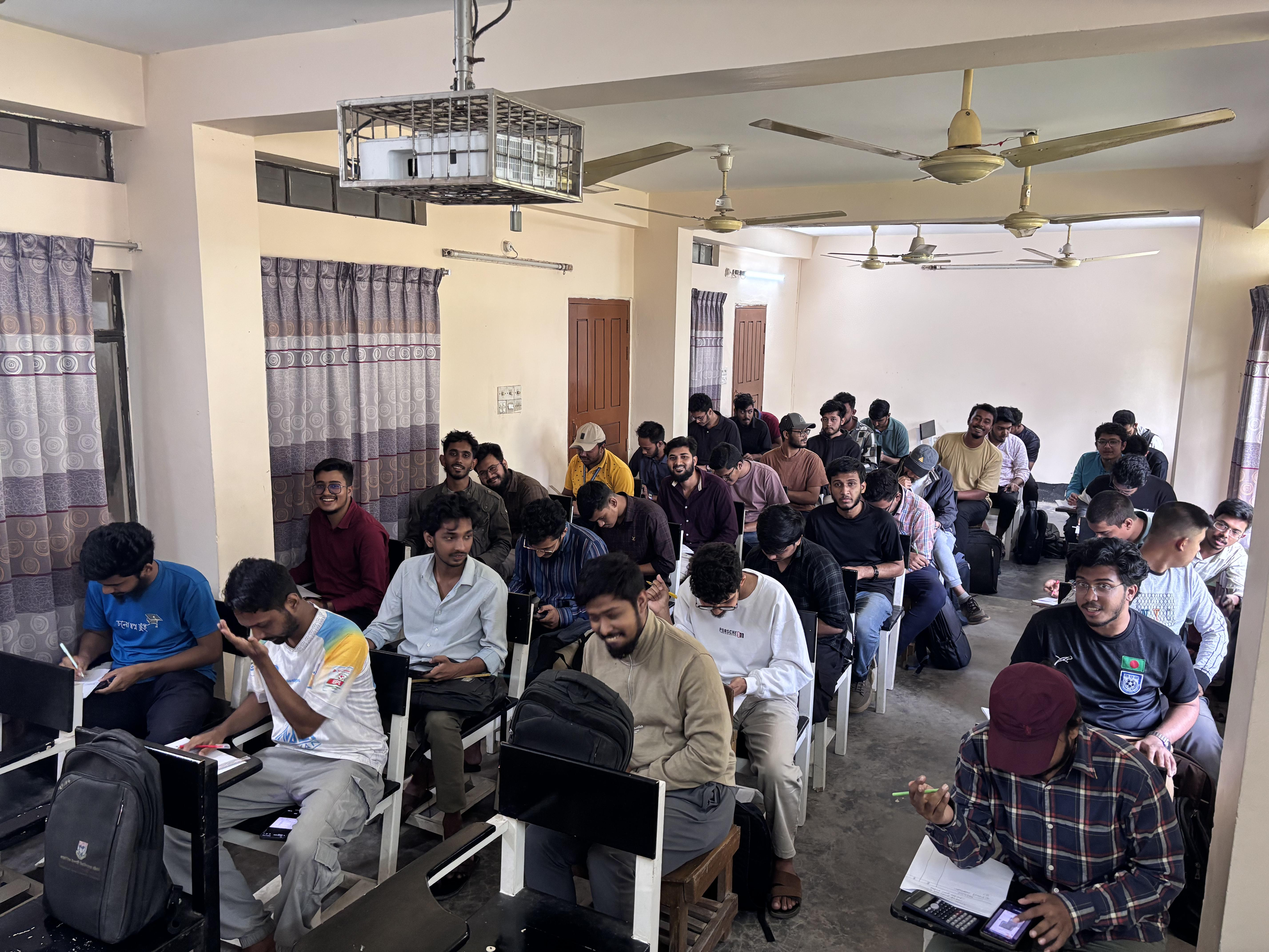copying: (989, 403, 1024, 461)
hidden_communication: (1147, 487, 1263, 597), (432, 417, 541, 534)
no_cheating: (876, 666, 1105, 952), (549, 557, 721, 849), (203, 546, 371, 841), (42, 509, 214, 743), (644, 544, 798, 712), (1036, 530, 1189, 684), (744, 501, 845, 664), (287, 452, 379, 596), (575, 478, 671, 583), (654, 431, 725, 548), (808, 456, 873, 574), (1061, 486, 1154, 553), (547, 418, 624, 496), (1096, 451, 1165, 502), (621, 417, 676, 471), (683, 390, 732, 450), (1080, 421, 1131, 477), (725, 389, 769, 444), (861, 387, 899, 448), (813, 398, 850, 453)
side_talking: (935, 398, 1001, 509), (754, 406, 833, 488)
suspicious_moving: (893, 436, 948, 504)
using_phone: (888, 648, 1184, 952), (382, 497, 490, 714), (508, 496, 600, 629)
